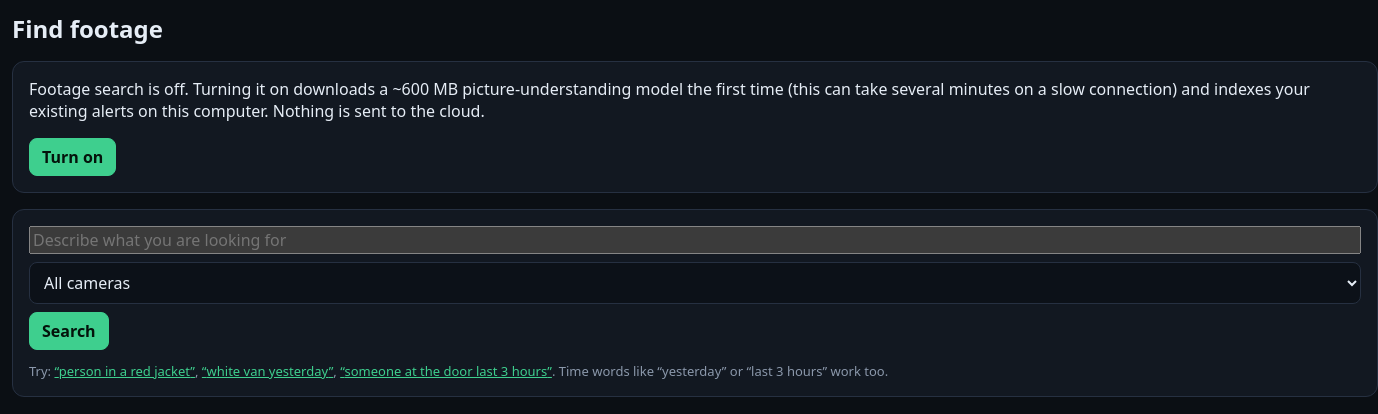
Test case: SearchPage › offers to turn search on when off
Click the button "Turn on". click: x=73, y=157
box: [29,138,116,176]
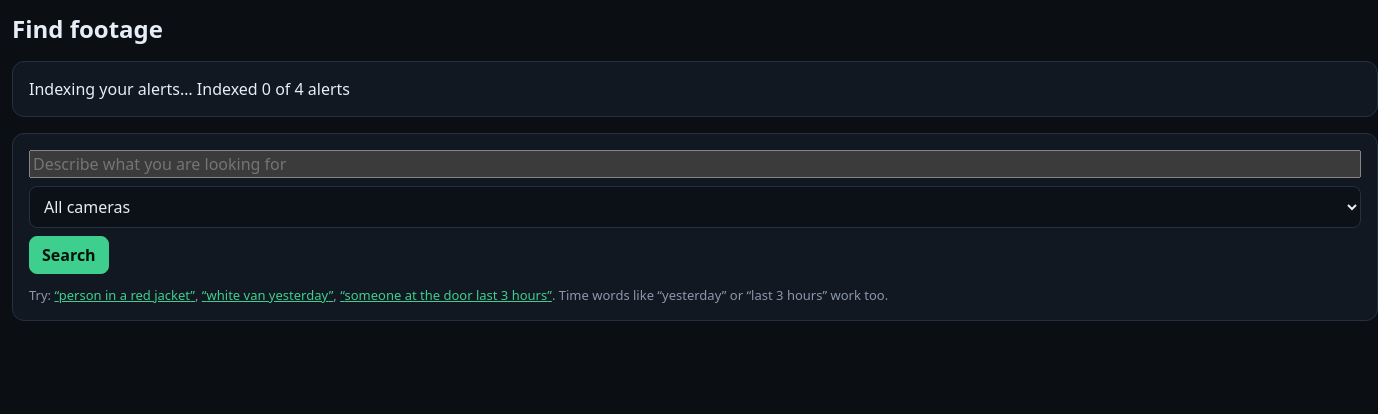
Expected: the text "Indexing your alerts… Indexed 0 of 4 alerts" is shown, [12,61,1377,117]
